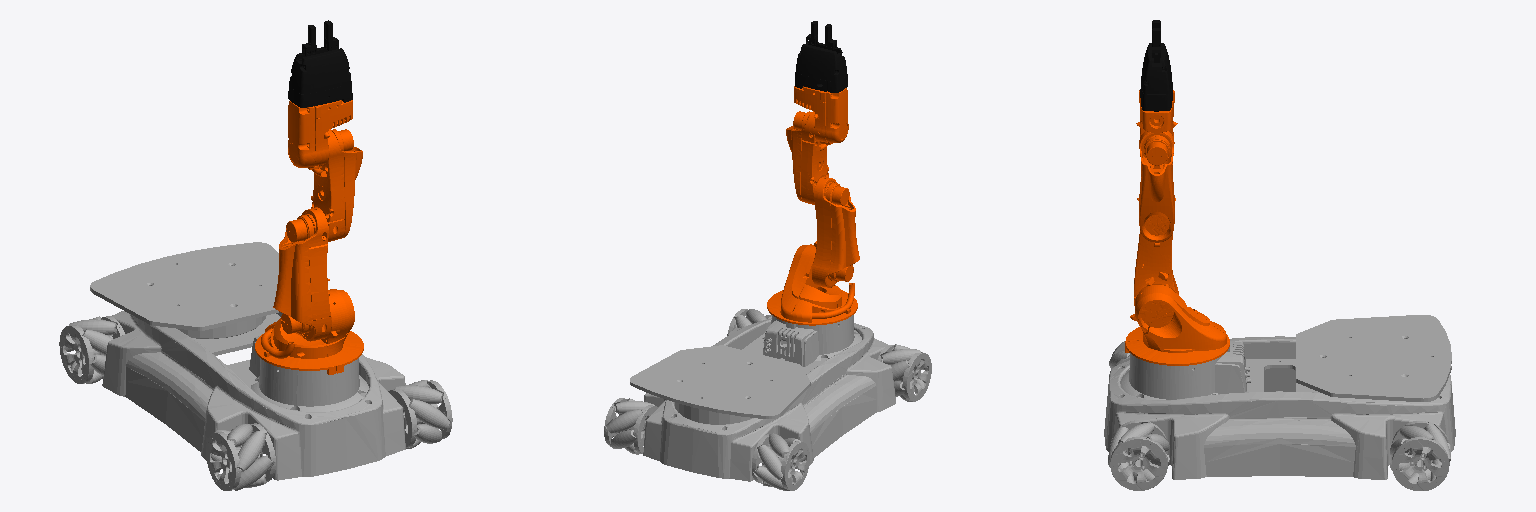
The robot description file, URDF, robot "youbot":
<?xml version="1.0" ?>
<robot name="youbot">

  <material name="Orange">
    <color rgba="1.0 0.4 0.0 1.0"/>
  </material>
  <material name="Grey">
    <color rgba="0.7 0.7 0.7 1.0"/>
  </material>
  <material name="DarkGrey">
    <color rgba="0.1 0.1 0.1 1.0"/>
  </material>

  <link name="base_link">
    <visual>
      <origin rpy="0 0 3.14" xyz="0 0 0"/>
      <geometry>
        <mesh filename="package://youbot_model/mesh/base.stl"/>
      </geometry>
      <material name="Grey"/>
    </visual>
  </link>

  <link name="link1">
    <visual>
      <origin rpy="0 0 0" xyz="0 0 0"/>
      <geometry>
        <mesh filename="package://youbot_model/mesh/arm0.stl"/>
      </geometry>
      <material name="Orange"/>
    </visual>
  </link>

  <link name="link2">
    <visual>
    <!-- <origin xyz="0 -0.033 -0.246" /-->
    <origin xyz="0 0 0" rpy="0 0 0"/>
      <geometry>
        <mesh filename="package://youbot_model/mesh/arm1.stl"/>
      </geometry>
      <material name="Orange"/>
    </visual>
  </link>

  <link name="link3">
    <visual>
    <origin xyz="0 0 0" rpy="0 0 0"/>
      <geometry>
        <mesh filename="package://youbot_model/mesh/arm2.stl"/>
      </geometry>
      <material name="Orange"/>
    </visual>
  </link>

  <link name="link4">
    <visual>
    <origin xyz="0 0 0" rpy="0 0 0"/>
      <geometry>
        <mesh filename="package://youbot_model/mesh/arm3.stl"/>
      </geometry>
      <material name="Orange"/>
    </visual>
  </link>
  
  <link name="link5">
    <visual>
    <origin xyz="0 0 0" rpy="0 0 0"/>
      <geometry>
        <mesh filename="package://youbot_model/mesh/arm4.stl"/>
      </geometry>
      <material name="DarkGrey"/>
    </visual>
  </link>
  
  <!--
  <link name="finger1">
    <visual>
      <origin xyz="0 -0.033 -0.62" />
      <geometry>
        <mesh filename="package://youbot_model/mesh/youBotGripperLeft.stl"/>
      </geometry>
      <material name="DarkGrey"/>
    </visual>
  </link>
  
  
  <link name="finger2">
    <visual>
      <origin xyz="0 -0.033 -0.62" />
      <geometry>
        <mesh filename="package://youbot_model/mesh/youBotGripperRight.stl"/>
      </geometry>
      <material name="DarkGrey"/>
    </visual>
  </link>
  -->
  
<!--
    <Geom type="trimesh" modifiable="false">
      <Translation>0 0 0</Translation>
      <data>youBotGripperLeft.iv 1.0</data>
      <Render>youBotGripperLeft.iv 1.0</Render>
    </Geom>
    <Geom type="trimesh" modifiable="false">
      <Translation>0 0 0</Translation>
      <data>youBotGripperRight.iv 1.0</data>
      <Render>youBotGripperRight.iv 1.0</Render>
    </Geom>
-->
  <joint name="j0" type="continuous">
    <axis xyz="0 0 -1" />
    <origin xyz="0 -0.166 0.123" rpy="0 0 3.14"/>
    <!-- limit lower="170" higher="170" -->
    <parent link="base_link"/>
    <child link="link1"/>
  </joint>

  <joint name="j1" type="continuous">
    <parent link="link1"/>
    <child link="link2"/>
    <origin xyz="0 0.033 0.019" />
    <axis xyz="-1 0 0" />
    <!-- limitsdeg>-65 90</limitsdeg -->
  </joint>

  <joint name="j2" type="continuous">
    <parent link="link2"/>
    <child link="link3"/>
    <origin xyz="0 0 0.155" />
    <axis xyz="-1 0 0" />
    <!-- limitsdeg>-150 150</limitsdeg -->
  </joint>
  
  <joint name="j3" type="continuous">
    <parent link="link3"/>
    <child link="link4"/>
    <origin xyz="0 0 0.135" />
    <axis xyz="-1 0 0" />
    <!-- limitsdeg>-100 100</limitsdeg -->
  </joint>
  
  <joint name="j4" type="continuous">
    <parent link="link4"/>
    <child link="link5"/>
    <origin xyz="0 -0.002 0.131" />
    <axis xyz="0 0 -1" />
    <!-- limitsdeg>-165 165</limitsdeg -->
  </joint>

</robot>

--- Render facts (derived) ---
Views: 3 orthographic renders of the robot side by side, from view 1: azimuth 30°, elevation 25°; view 2: azimuth 150°, elevation 25°; view 3: azimuth 270°, elevation 25°.
Model youbot with 6 links and 5 joints (5 continuous), rooted at base_link, posed all joints at 0.
Links seen in each view (by area): view 1: base_link, link2, link1, link5, link3, link4; view 2: base_link, link2, link1, link5, link3, link4; view 3: base_link, link1, link3, link2, link5, link4.
Boxes of the visible links, x1,y1,x2,y2 form: base_link: [59, 242, 452, 490]; link2: [273, 207, 338, 341]; link1: [255, 289, 363, 374]; link5: [288, 20, 352, 107]; link3: [311, 129, 362, 241]; link4: [288, 100, 352, 169]; base_link: [604, 309, 931, 490]; link2: [812, 176, 859, 287]; link1: [767, 244, 857, 325]; link5: [795, 21, 847, 92]; link3: [786, 111, 828, 204]; link4: [794, 86, 848, 144]; base_link: [1104, 315, 1455, 490]; link1: [1125, 285, 1229, 365]; link3: [1137, 131, 1175, 242]; link2: [1134, 215, 1178, 327]; link5: [1140, 20, 1172, 111]; link4: [1136, 90, 1177, 142].
Bounding box of the posed robot: 0.3918 × 0.5701 × 0.745 m (x, y, z).
Meshes: 6 distinct files referenced, 6 mesh visuals loaded (6 binary STL).